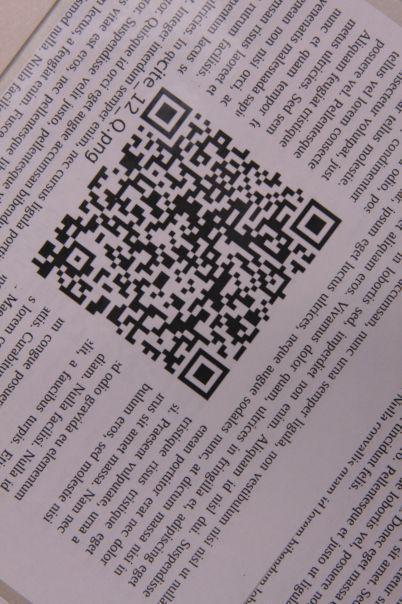qr_code: (29, 88, 343, 401)
